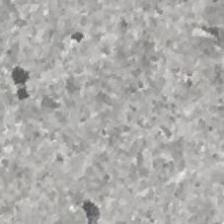Non_Crack: (15, 32, 224, 197)
